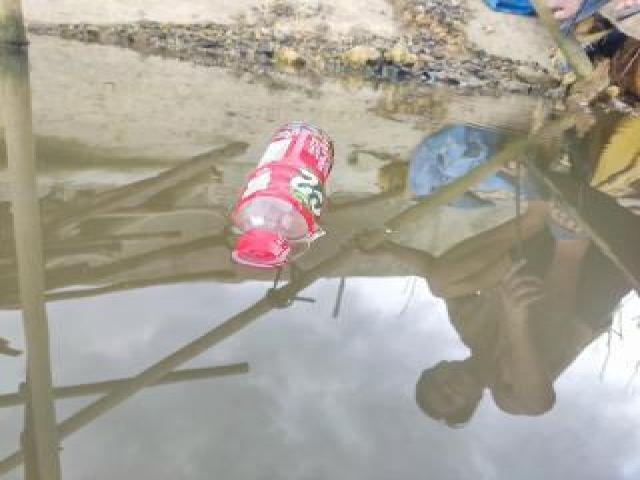Bottle: (220, 116, 344, 271)
